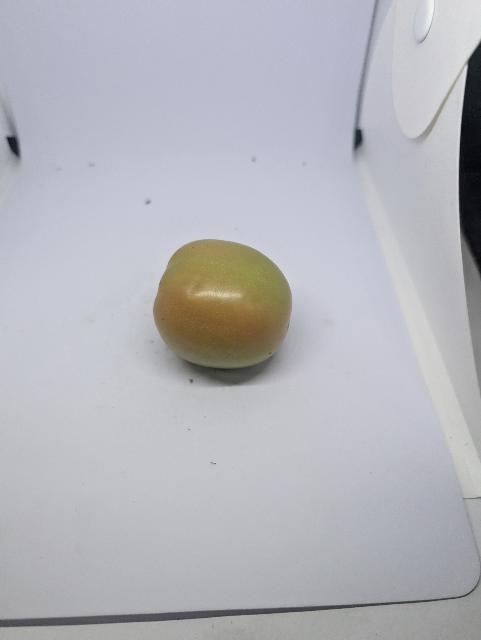breaker: (154, 239, 292, 369)
